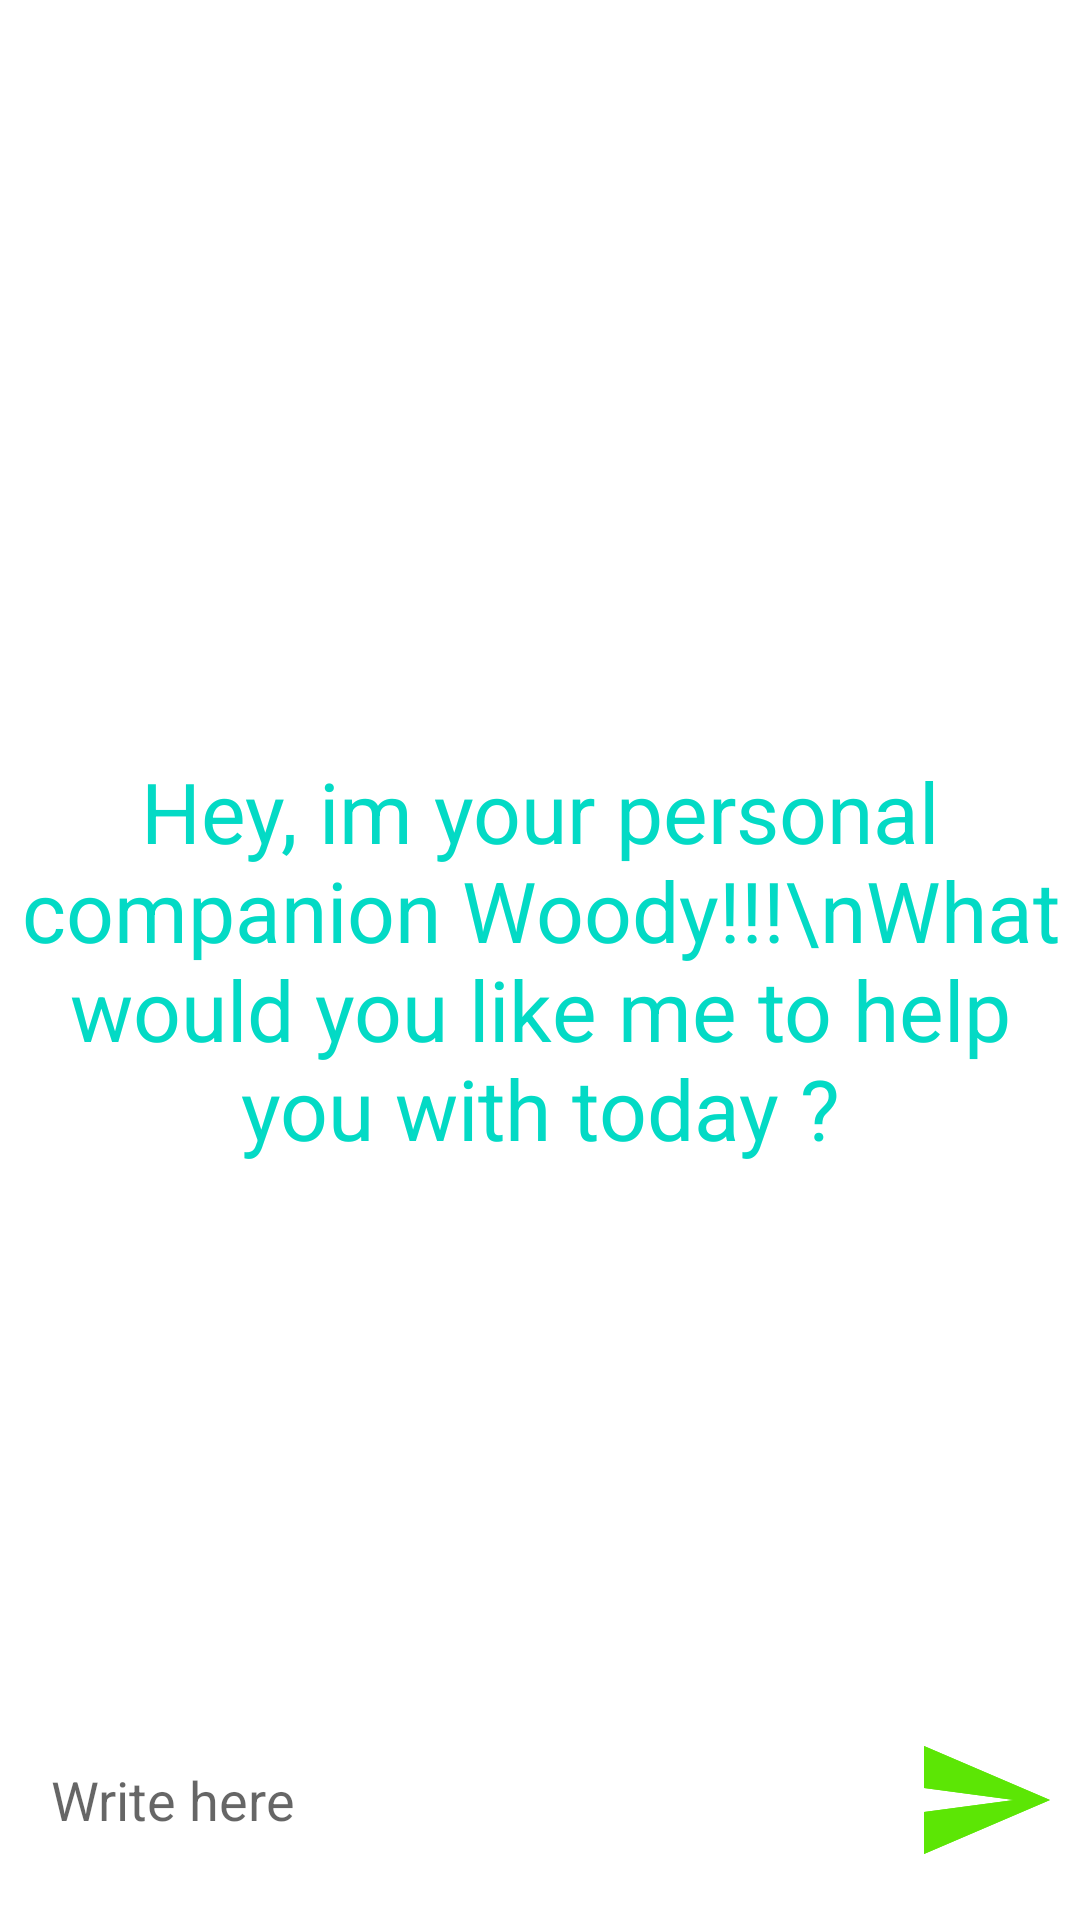

Point at icon controls on the screen. Image size 1080x1920, points as point (x, y).
send: point (987, 1800)
